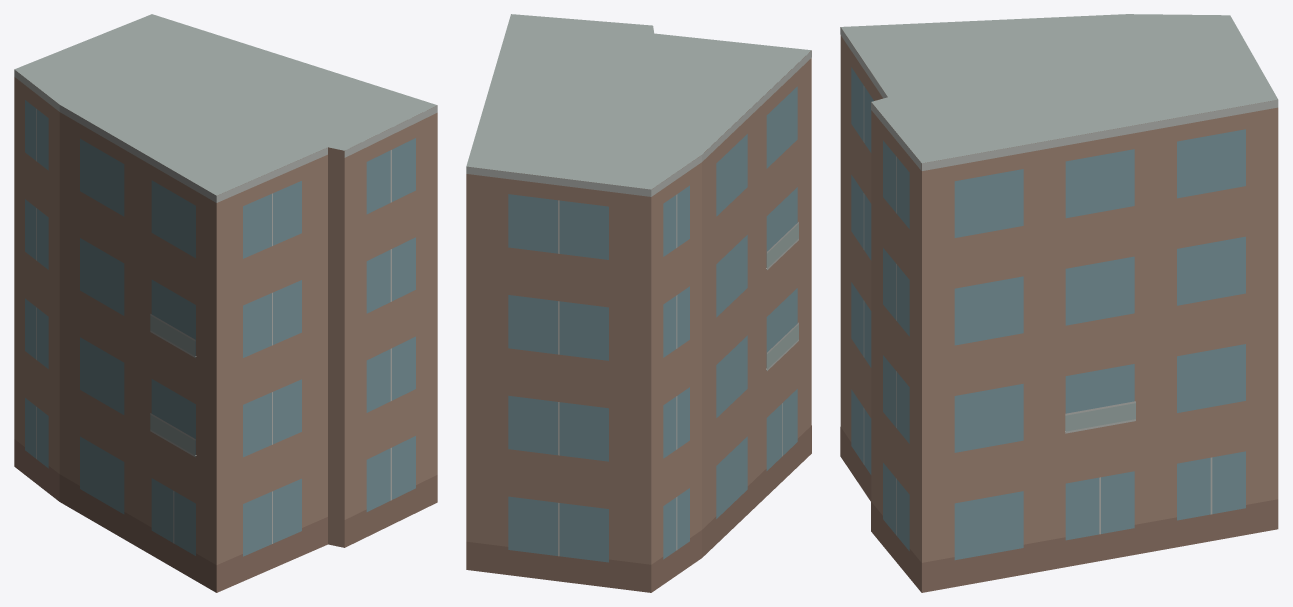
Rendered from survey-upis-32895952.glb.
3 views of the same model, side by side, from view 1: azimuth 30°, elevation 25°; view 2: azimuth 150°, elevation 25°; view 3: azimuth 270°, elevation 25° (orthographic). The views are drawn at different scales.
Parts seen in each view (by area): view 1: survey-upis-32895952.tmp; view 2: survey-upis-32895952.tmp; view 3: survey-upis-32895952.tmp.
Boxes of the visible parts, bbox=[...] form: survey-upis-32895952.tmp: bbox=[14, 14, 437, 592]; survey-upis-32895952.tmp: bbox=[466, 14, 811, 592]; survey-upis-32895952.tmp: bbox=[840, 14, 1278, 592].
Bounding box in the file's own units: 9.93 × 13.3 × 12.3.
